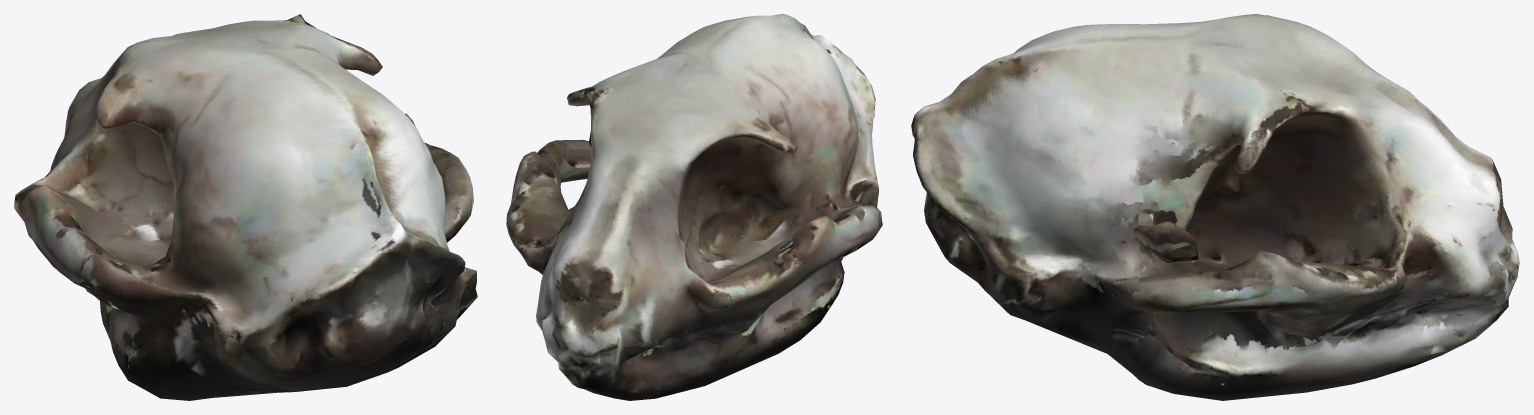
The model's file is skull.glb.
3 renders of one model, left to right at view 1: azimuth 30°, elevation 25°; view 2: azimuth 150°, elevation 25°; view 3: azimuth 270°, elevation 25°, orthographic. The views are drawn at different scales.
Visible parts, largest first — view 1: skull_mouth_closed_target; view 2: skull_mouth_closed_target; view 3: skull_mouth_closed_target.
Part boxes in pixels (x1=…): skull_mouth_closed_target: x1=14, y1=14, x2=477, y2=400; skull_mouth_closed_target: x1=506, y1=14, x2=882, y2=400; skull_mouth_closed_target: x1=911, y1=14, x2=1519, y2=400.
Bounding box in the file's own units: 0.6728 × 0.5672 × 0.9015.
Materials: 1 (1 with a texture image).
